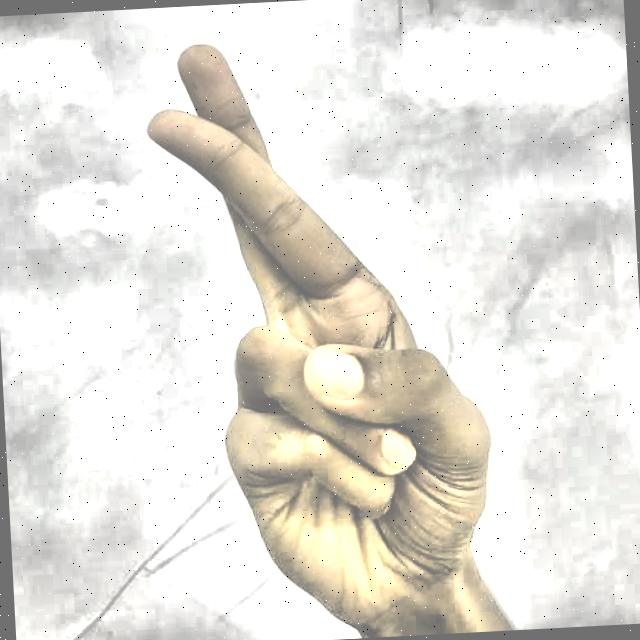Ra: (96, 3, 529, 640)
